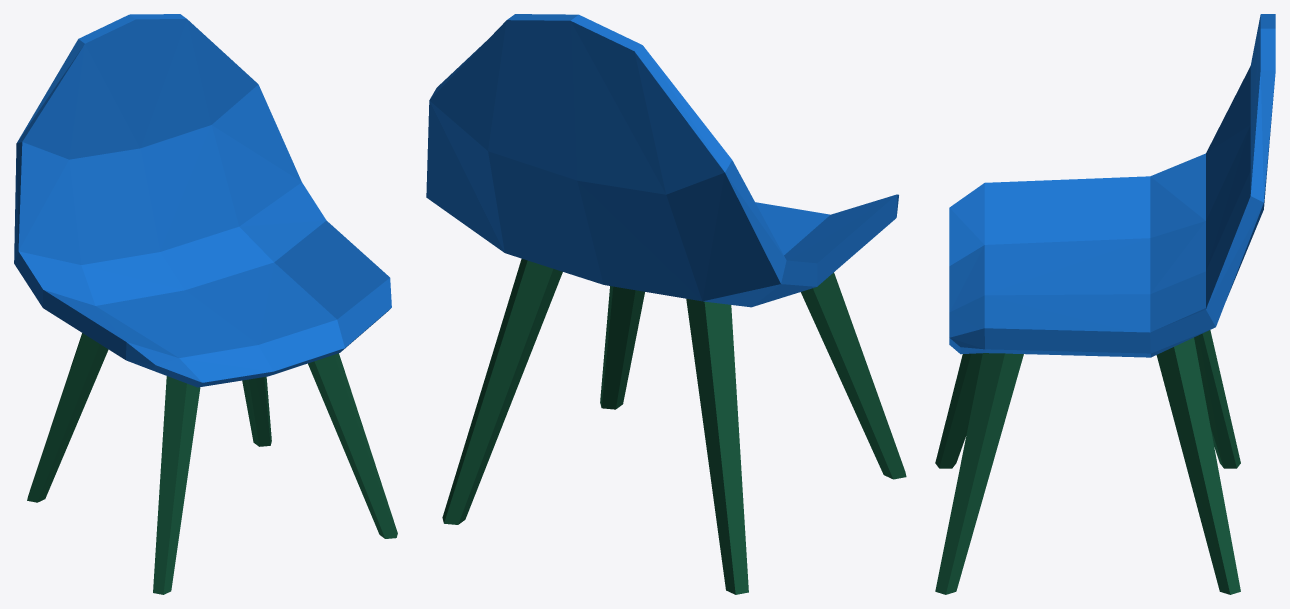
File: T_chair1.fbx
3 views of the same model, side by side, from view 1: azimuth 30°, elevation 25°; view 2: azimuth 150°, elevation 25°; view 3: azimuth 270°, elevation 25° (orthographic). The views are drawn at different scales.
Visible parts, largest first — view 1: chair1; view 2: chair1; view 3: chair1.
Boxes of the visible parts, x1=… form: chair1: x1=14, y1=14, x2=397, y2=594; chair1: x1=426, y1=14, x2=906, y2=594; chair1: x1=935, y1=14, x2=1275, y2=594.
Bounding box in the file's own units: 55.55 × 82.72 × 51.18.
